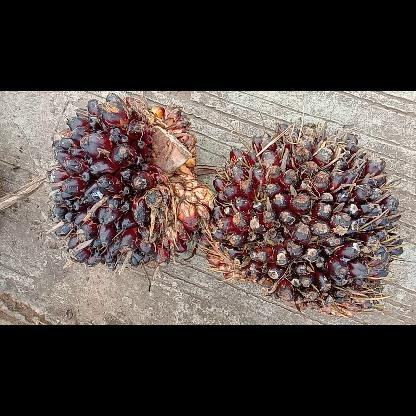TBS mentah: (199, 118, 404, 314), (44, 91, 214, 271)
